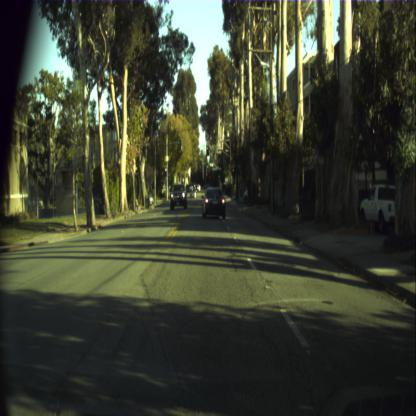Green: (206, 162, 209, 168), (218, 170, 219, 178)
Red: (206, 146, 209, 154), (232, 167, 235, 172)
